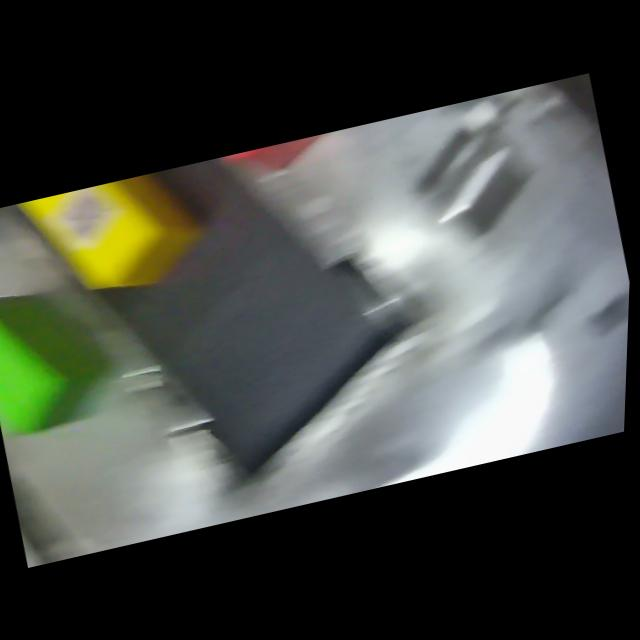greenBox: (0, 269, 129, 444)
redBox: (167, 130, 346, 198)
yellowBox: (8, 164, 218, 316)
